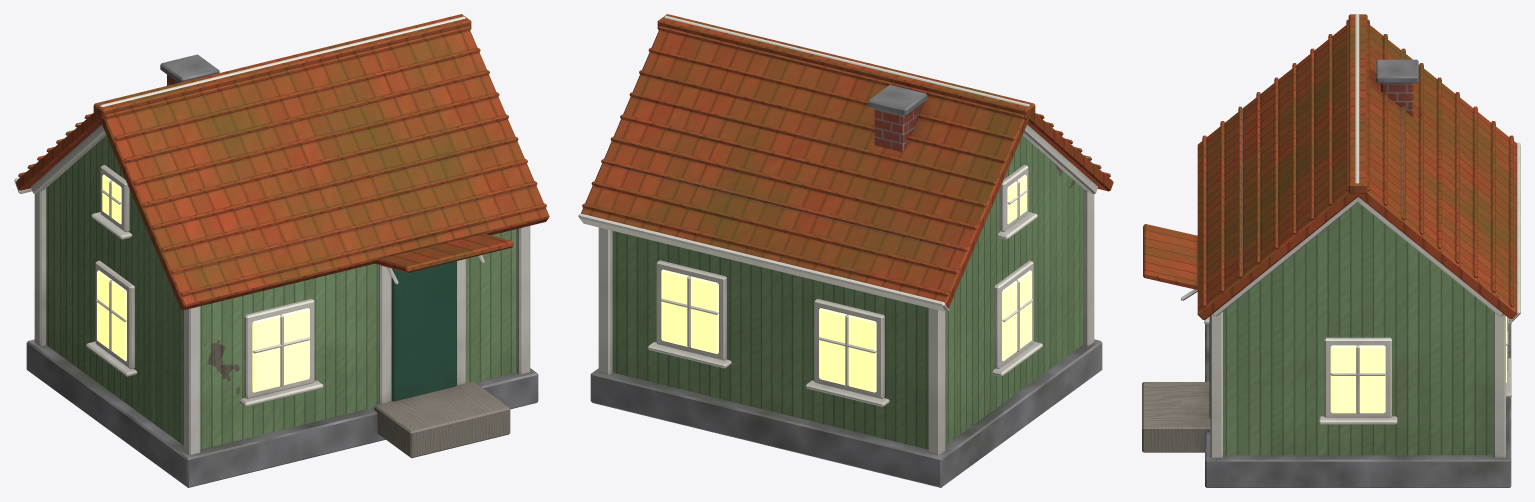
Rendered from gronstuga_tex.glb.
3 renders of one model, left to right at view 1: azimuth 30°, elevation 25°; view 2: azimuth 150°, elevation 25°; view 3: azimuth 270°, elevation 25°, orthographic. The views are drawn at different scales.
Parts seen in each view (by area): view 1: gronstuga; view 2: gronstuga; view 3: gronstuga.
Boxes of the visible parts, bbox=[...] form: gronstuga: bbox=[14, 14, 549, 487]; gronstuga: bbox=[578, 14, 1113, 487]; gronstuga: bbox=[1142, 14, 1520, 487].
Size of the model in its own units: 5.15 by 4.34 by 4.82.
Materials: 8 (7 with a texture image).
